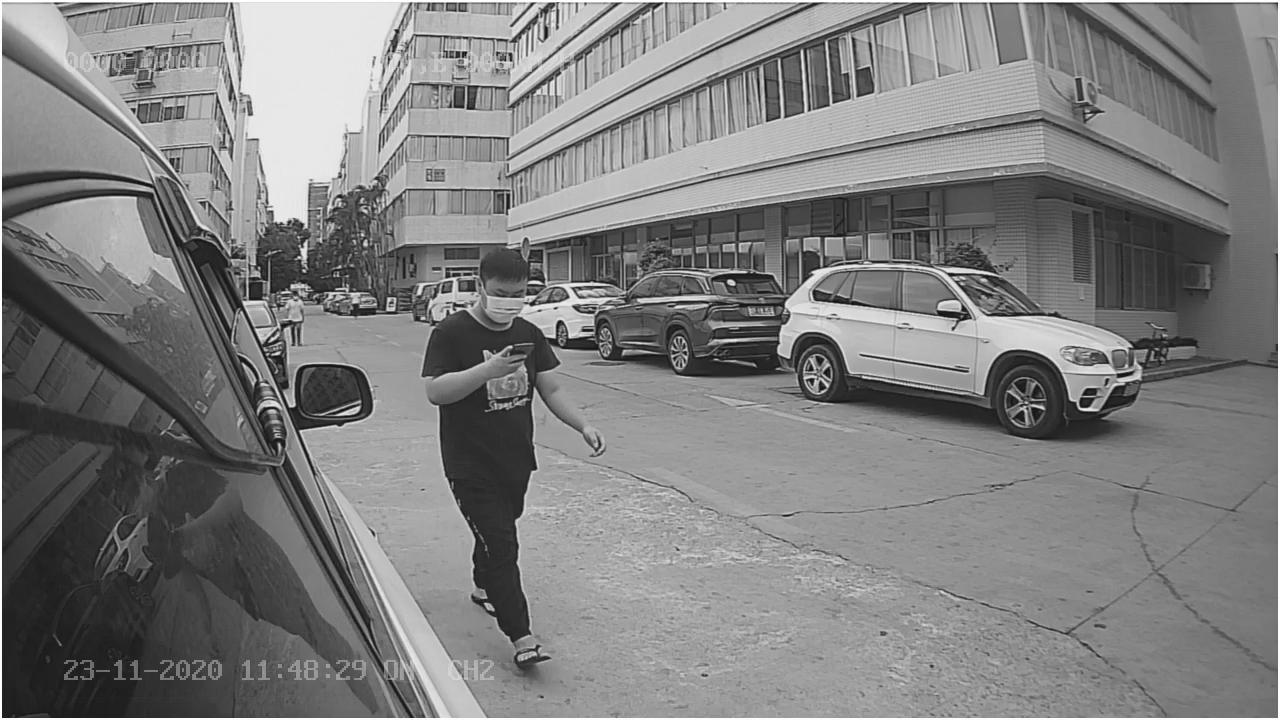person: (420, 240, 605, 511)
